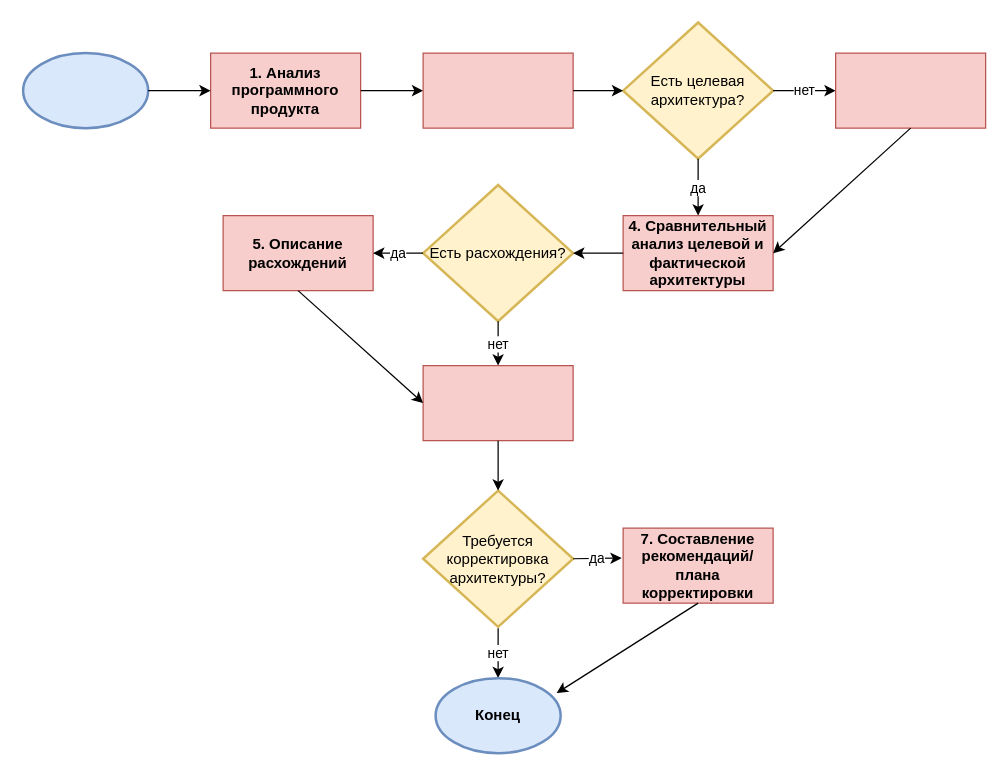
Image size: 1008x776. Some labels were removed from this diagram. Here are the shapes that lost their labels. From the top down, the centre of each, then its label:
At pixel 85 90: "Начало".
At pixel 497 90: "2. Описание фактической архитектуры".
At pixel 910 90: "3. Проектирование целевой архитектуры".
At pixel 497 402: "6. Оценка необходимости корректировки".
